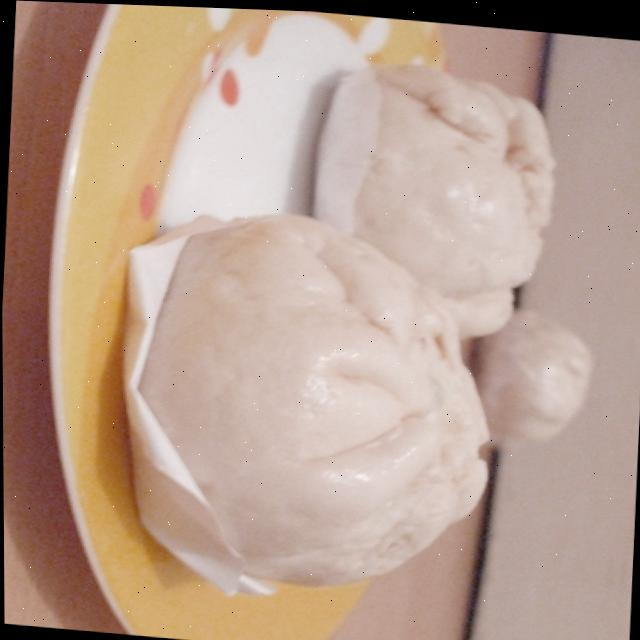带馅早点: (38, 15, 640, 640)
